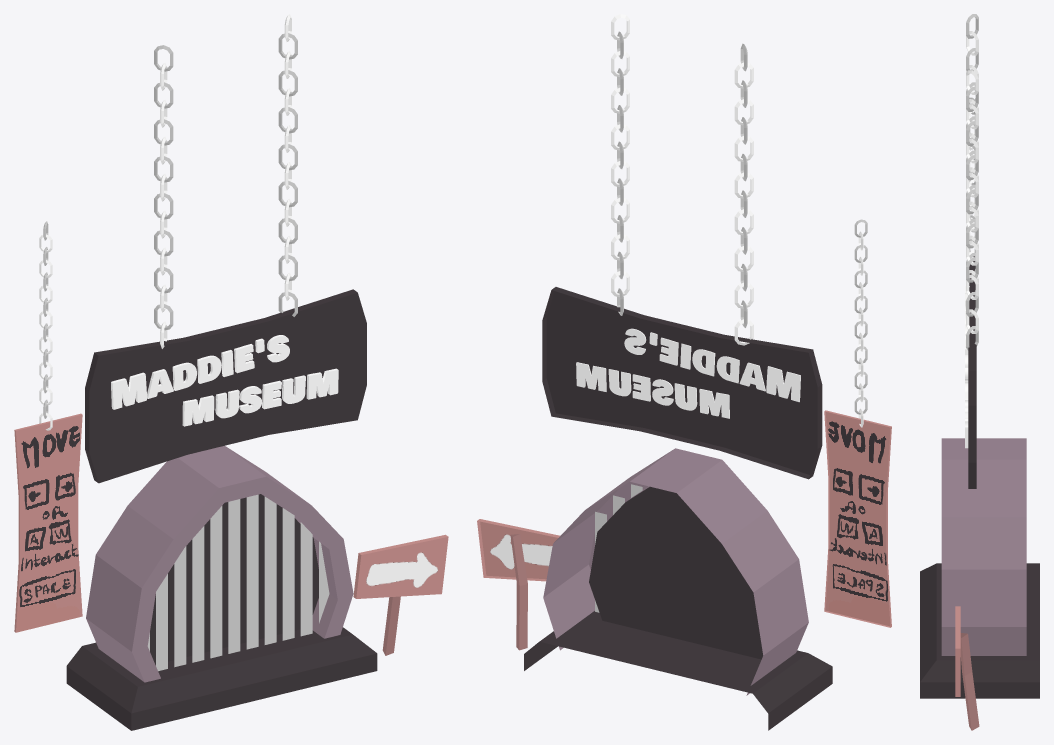
File: Expos.gltf
The picture shows the model from 3 angles, left to right: view 1: azimuth 30°, elevation 25°; view 2: azimuth 150°, elevation 25°; view 3: azimuth 270°, elevation 25°; orthographic projection. The views are drawn at different scales.
Parts seen in each view (by area): view 1: Cube.001; view 2: Cube.001; view 3: Cube.001.
Boxes of the visible parts, bbox=[...] form: Cube.001: bbox=[14, 14, 448, 730]; Cube.001: bbox=[477, 14, 891, 730]; Cube.001: bbox=[920, 14, 1039, 730].
Size of the model in its own units: 6.09 by 9.11 by 1.61.
1 material, 1 textured.
